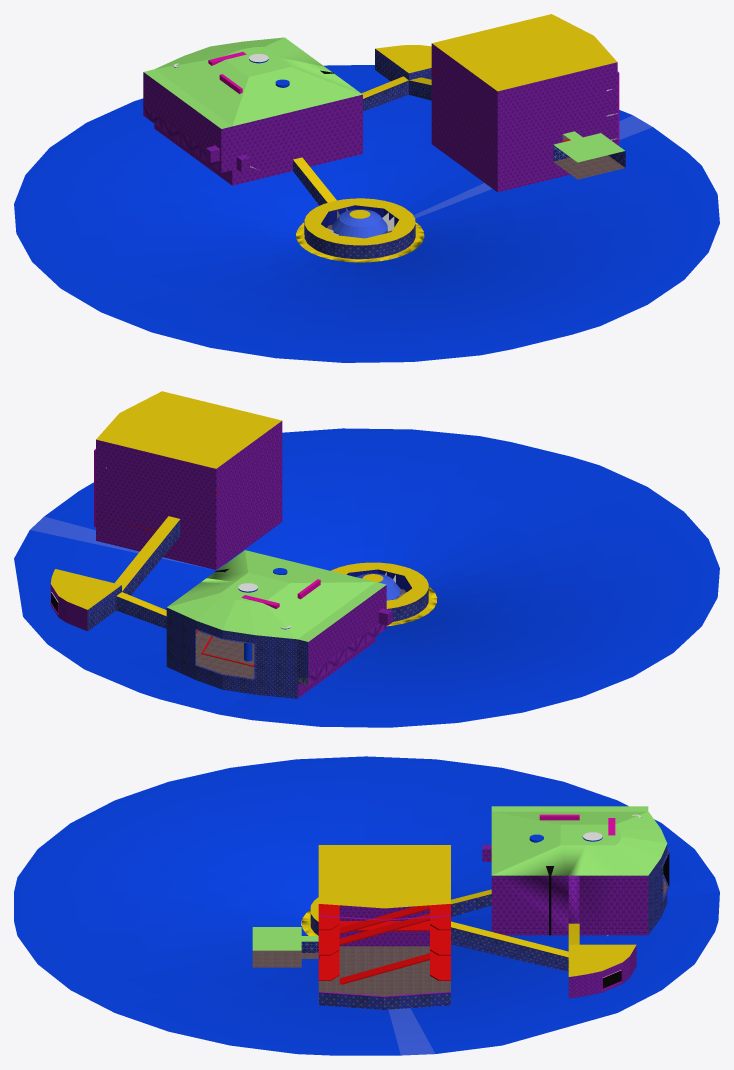
File: SpaceShipLevel.fbx
3 renders of one model, top to bottom at view 1: azimuth 30°, elevation 25°; view 2: azimuth 150°, elevation 25°; view 3: azimuth 270°, elevation 25°, orthographic.
Parts seen in each view (by area): view 1: SpaceShip; view 2: SpaceShip; view 3: SpaceShip.
Boxes of the visible parts, x1,y1,x2,y2 form: SpaceShip: (14, 14, 719, 362); SpaceShip: (14, 391, 719, 727); SpaceShip: (14, 756, 719, 1055).
Bounding box in the file's own units: 50566 × 50433 × 11334.
